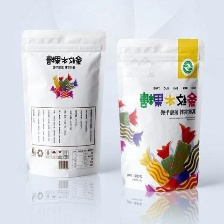snack: (111, 33, 209, 195), (16, 24, 112, 182)
